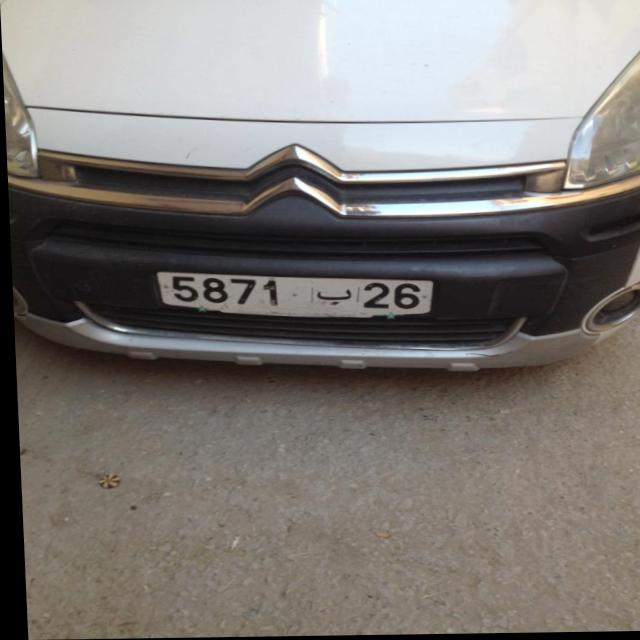License-Plate: (155, 272, 430, 319)
